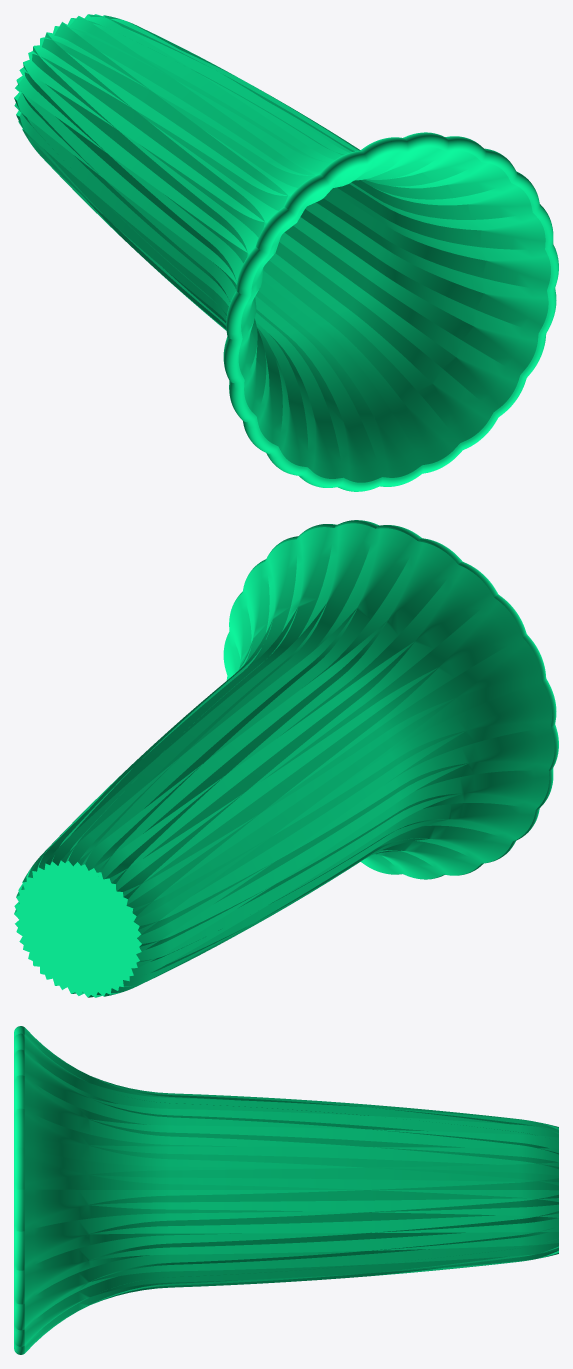
File: model_scale.obj
The picture shows the model from 3 angles, top to bottom: view 1: azimuth 30°, elevation 25°; view 2: azimuth 150°, elevation 25°; view 3: azimuth 270°, elevation 25°; orthographic projection. The views are drawn at different scales.
Visible parts, largest first — view 1: mesh1_mesh1-geometry; view 2: mesh1_mesh1-geometry; view 3: mesh1_mesh1-geometry.
Boxes of the visible parts, x1,y1,x2,y2 form: mesh1_mesh1-geometry: [14, 14, 558, 491]; mesh1_mesh1-geometry: [14, 520, 558, 997]; mesh1_mesh1-geometry: [14, 1026, 558, 1354].
Size of the model in its own units: 0.1 by 0.1 by 0.165.
